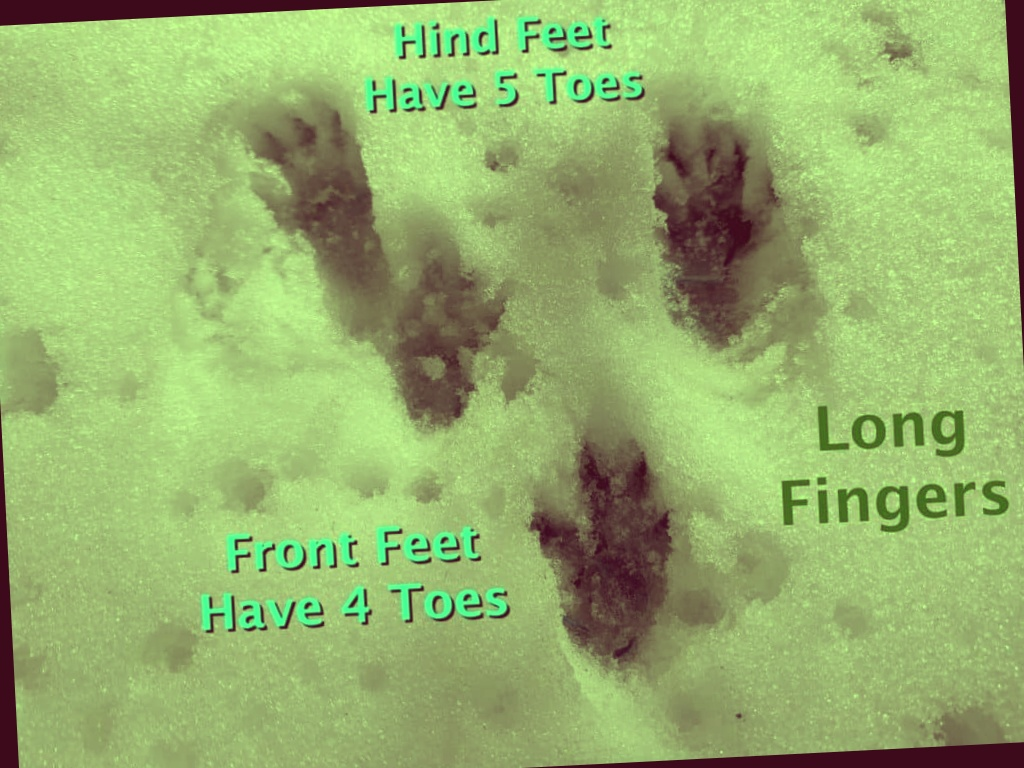ecureuil: (230, 68, 544, 455), (611, 82, 842, 376), (516, 423, 695, 690)
